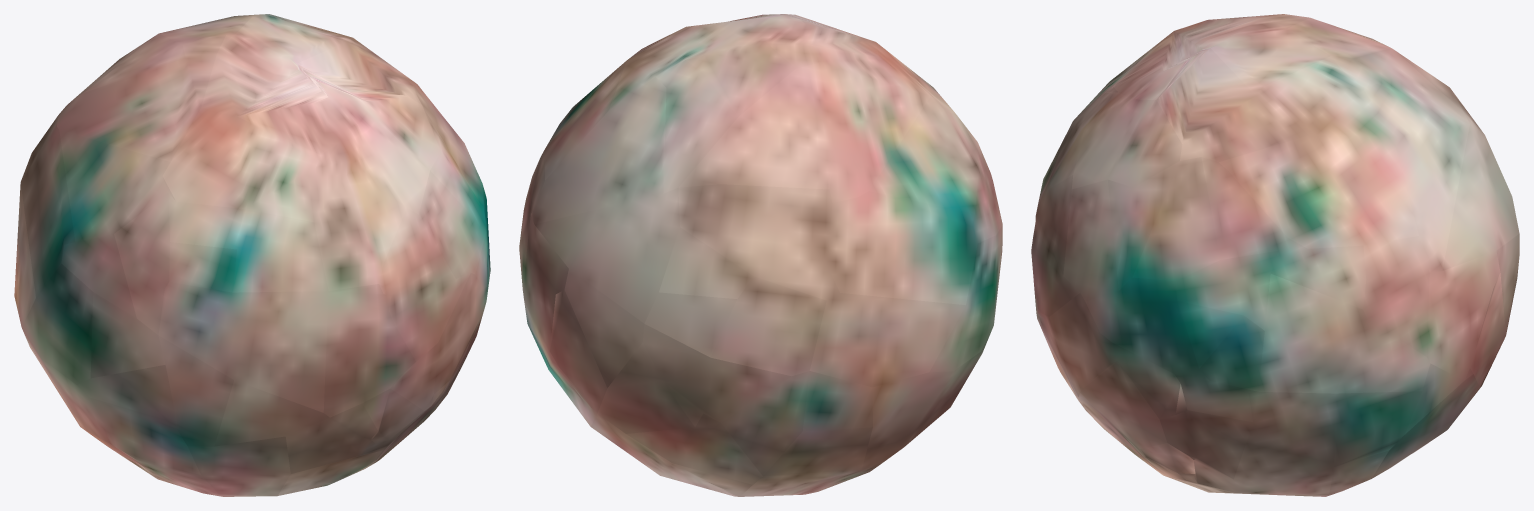
File: planet_15-far.glb
The picture shows the model from 3 angles, left to right: view 1: azimuth 30°, elevation 25°; view 2: azimuth 150°, elevation 25°; view 3: azimuth 270°, elevation 25°; orthographic projection.
Parts seen in each view (by area): view 1: Mesh_0.001; view 2: Mesh_0.001; view 3: Mesh_0.001.
Boxes of the visible parts, box(x1,y1,x2,y2) form: Mesh_0.001: box(14, 14, 490, 496); Mesh_0.001: box(519, 14, 1002, 496); Mesh_0.001: box(1031, 14, 1519, 496).
Bounding box in the file's own units: 1.89 × 1.9 × 1.89.
Materials: 1 (1 with a texture image).
